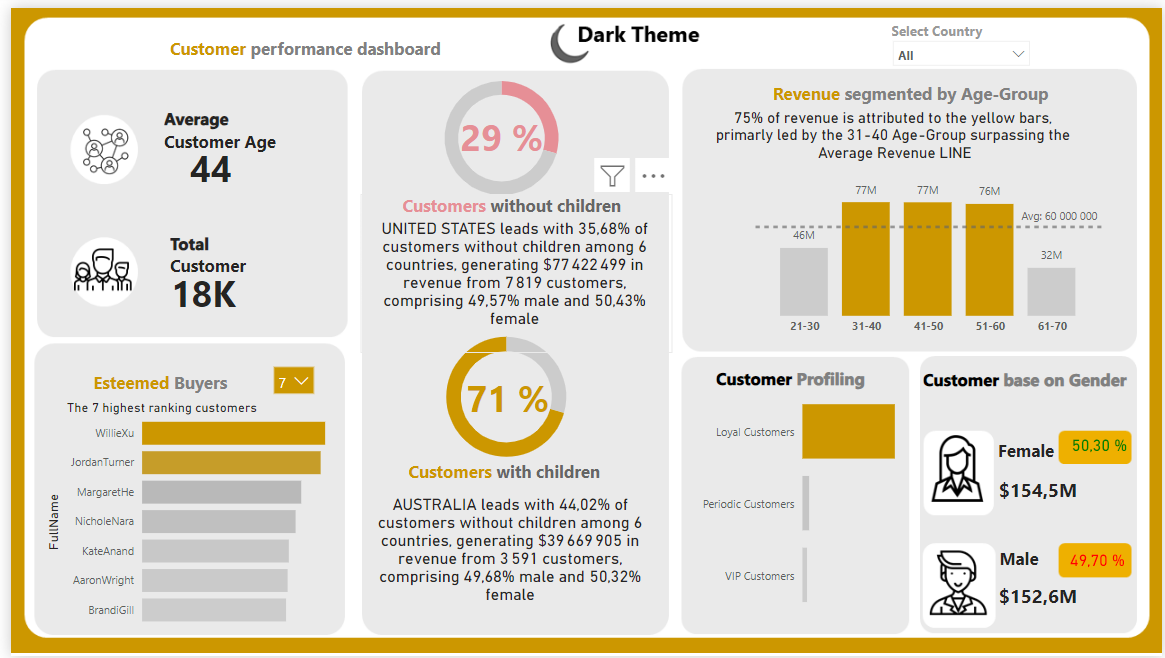

Layout of this report page (visuals, bound fields, positions):
{"tool":"powerbi","page":{"name":"Page 1","canvas":[1280,720],"ordinal":0},"visuals":[{"type":"columnChart","fields":{"Category":["DimCustomer.Age Category"],"Y":["All Measures.Total Revenue","All Measures.Total Revenue"]},"box":[821.7,180,395,191.7],"z":0},{"type":"card","fields":{"Values":["Customer Measures.Avg caption"]},"box":[755,81.7,453.3,118.3],"z":1000},{"type":"textbox","box":[841.7,76.7,331.7,50],"z":2000},{"type":"donutChart","fields":{"Y":["Customer Measures.%C Without Children","Customer Measures.%CWC"]},"box":[448.5,60.6,192.7,168.4],"z":3000},{"type":"donutChart","fields":{"Y":["Customer Measures.%C Without Children","Customer Measures.%CWC"]},"box":[443.3,343.3,213.3,176.7],"z":4000},{"type":"card","fields":{"Values":["Customer Measures.%C Without Children"]},"box":[485.8,104.3,119.8,74.5],"z":5000},{"type":"card","fields":{"Values":["Customer Measures.%CWC"]},"box":[491.7,395,120,75],"z":6000},{"type":"textbox","box":[436.7,496.7,253.3,40],"z":7000},{"type":"textbox","box":[430,201.7,286.7,45],"z":8000},{"type":"card","fields":{"Values":["Customer Measures.Caption customers with children"]},"box":[383.3,513.3,346.7,176.7],"z":9000},{"type":"card","fields":{"Values":["Customer Measures.Caption customers without children"]},"box":[388.3,206.7,346.7,176.7],"z":10000},{"type":"clusteredBarChart","fields":{"Category":["DimCustomer.Customer type"],"Y":["All Measures.Total Revenue"]},"box":[755,395,241.7,305],"z":11000},{"type":"clusteredBarChart","fields":{"Category":["DimCustomer.FullName"],"Y":["Customer Measures.Dynamic Customers"]},"box":[33.3,433.3,326.7,266.7],"z":12000},{"type":"slicer","fields":{"Values":["Dynamic Customers.Dynamic Customers"]},"box":[281.7,388.3,65,50],"z":13000},{"type":"card","fields":{"Values":["Customer Measures.% Female"]},"box":[1146.7,451.7,123.3,68.3],"z":14000},{"type":"card","fields":{"Values":["Customer Measures.% Male"]},"box":[1148.3,581.7,116.7,65],"z":15000},{"type":"card","fields":{"Values":["Customer Measures.Average customer age"]},"box":[185,138.3,73.3,76.7],"z":16000},{"type":"card","fields":{"Values":["Customer Measures.#Customers"]},"box":[145,258.3,136.7,115],"z":17000},{"type":"textbox","box":[165,105,140,78.3],"z":18000},{"type":"textbox","box":[171.7,243.3,121.7,68.3],"z":19000},{"type":"textbox","box":[1091.7,473.3,120,45],"z":20000},{"type":"textbox","box":[1093.3,593.3,86.7,40],"z":21000},{"type":"textbox","box":[86.7,398.3,170,50],"z":22000},{"type":"card","fields":{"Values":["Customer Measures.Title Top Customers"]},"box":[10,430,315,25],"z":23000},{"type":"card","fields":{"Values":["Customer Measures.Female Revenue"]},"box":[1075,508.3,131.7,56.7],"z":24000},{"type":"card","fields":{"Values":["Customer Measures.Male Revenue"]},"box":[1063.3,628.3,155,51.7],"z":25000},{"type":"textbox","box":[171.7,26.7,331.7,50],"z":26000},{"type":"slicer","fields":{"Values":["DimGeography.Country"]},"box":[970,26.7,171.7,50],"z":27000},{"type":"textbox","box":[973.3,10,126.7,41.7],"z":28000},{"type":"textbox","box":[778.3,393.3,203.3,50],"z":29000},{"type":"textbox","box":[1008.3,395,241.7,78.3],"z":30000}]}

Visuals, with their boxes in screenshot pixels (x1, y1, x2, y2), scaled from the page's 1280x720 canvas onto the 1165x658 screenshot:
columnChart - DimCustomer.Age Category x All Measures.Total Revenue: region(748, 164, 1107, 340)
card - Customer Measures.Avg caption: region(687, 75, 1100, 183)
textbox: region(766, 70, 1068, 116)
donutChart - Customer Measures.%C Without Children x Customer Measures.%CWC: region(408, 55, 584, 209)
donutChart - Customer Measures.%C Without Children x Customer Measures.%CWC: region(403, 314, 598, 475)
card - Customer Measures.%C Without Children: region(442, 95, 551, 163)
card - Customer Measures.%CWC: region(448, 361, 557, 430)
textbox: region(397, 454, 628, 490)
textbox: region(391, 184, 652, 225)
card - Customer Measures.Caption customers with children: region(349, 469, 664, 631)
card - Customer Measures.Caption customers without children: region(353, 189, 669, 350)
clusteredBarChart - DimCustomer.Customer type x All Measures.Total Revenue: region(687, 361, 907, 640)
clusteredBarChart - DimCustomer.FullName x Customer Measures.Dynamic Customers: region(30, 396, 328, 640)
slicer - Dynamic Customers.Dynamic Customers: region(256, 355, 316, 401)
card - Customer Measures.% Female: region(1044, 413, 1156, 475)
card - Customer Measures.% Male: region(1045, 532, 1151, 591)
card - Customer Measures.Average customer age: region(168, 126, 235, 196)
card - Customer Measures.#Customers: region(132, 236, 256, 341)
textbox: region(150, 96, 278, 168)
textbox: region(156, 222, 267, 285)
textbox: region(994, 433, 1103, 474)
textbox: region(995, 542, 1074, 579)
textbox: region(79, 364, 234, 410)
card - Customer Measures.Title Top Customers: region(9, 393, 296, 416)
card - Customer Measures.Female Revenue: region(978, 465, 1098, 516)
card - Customer Measures.Male Revenue: region(968, 574, 1109, 621)
textbox: region(156, 24, 458, 70)
slicer - DimGeography.Country: region(883, 24, 1039, 70)
textbox: region(886, 9, 1001, 47)
textbox: region(708, 359, 893, 405)
textbox: region(918, 361, 1138, 433)
